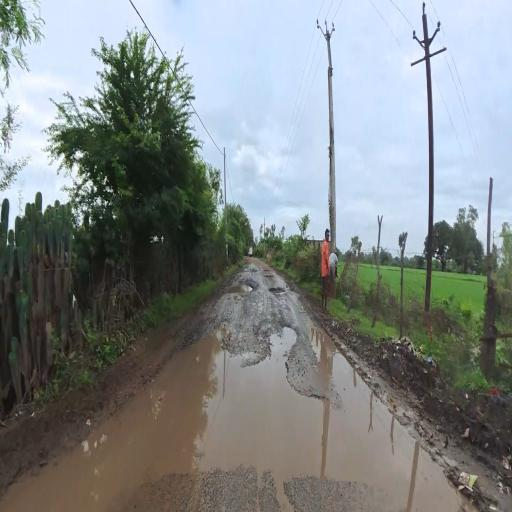longitudinal_crack: (165, 306, 336, 491)
